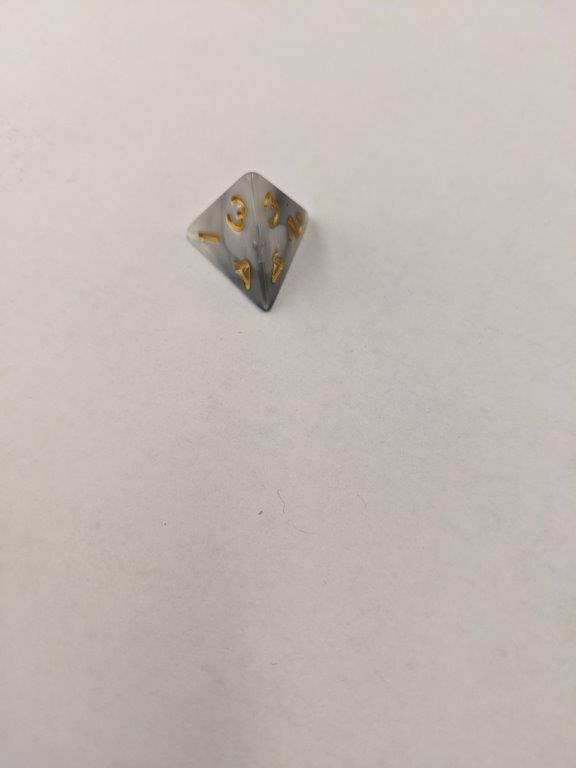d4-3: (183, 170, 316, 313)
